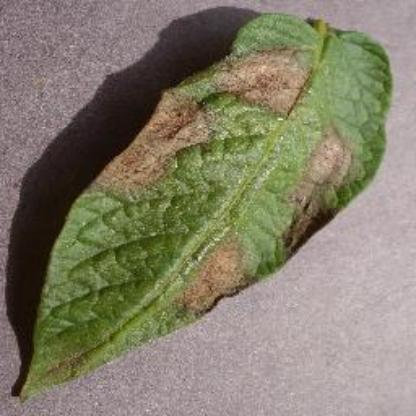Late-Blight: (12, 10, 392, 402)
